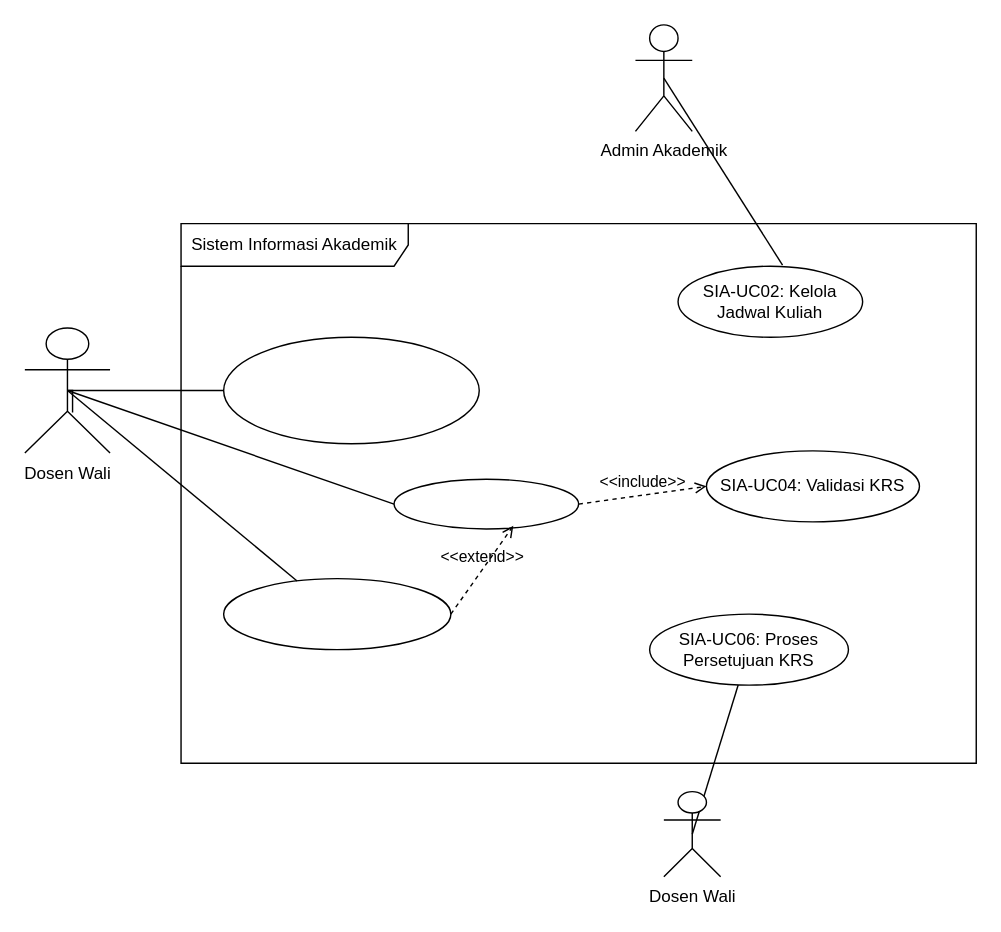
Image size: 1001x932. Some labels were removed from this diagram. The shapes that lost their labels are listed below. From the top down, each one's box as (x1, y1, x2, y2) in pixels, then its label:
(222, 336, 479, 444): SIA-UC01: Lihat Jadwal Kuliah
(393, 478, 579, 529): SIA-UC03: Ajukan KRS
(222, 577, 451, 650): SIA-UC05: Unduh Bukti Pengajuan
